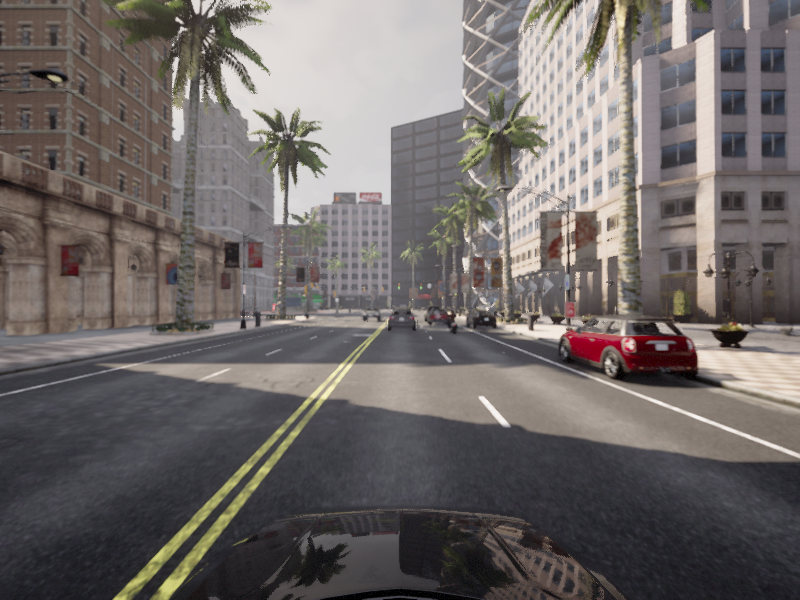vehicle: (386, 307, 416, 330), (426, 307, 450, 325), (445, 309, 460, 334), (390, 306, 413, 322), (361, 305, 381, 322), (423, 305, 442, 322)
